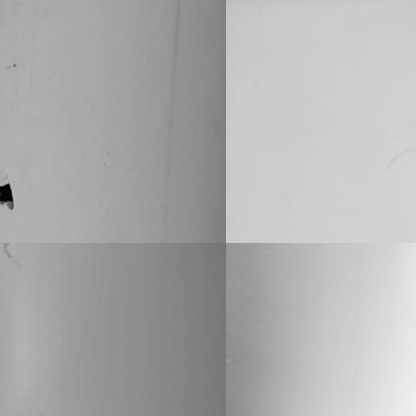kongdong: (1, 181, 18, 210)
